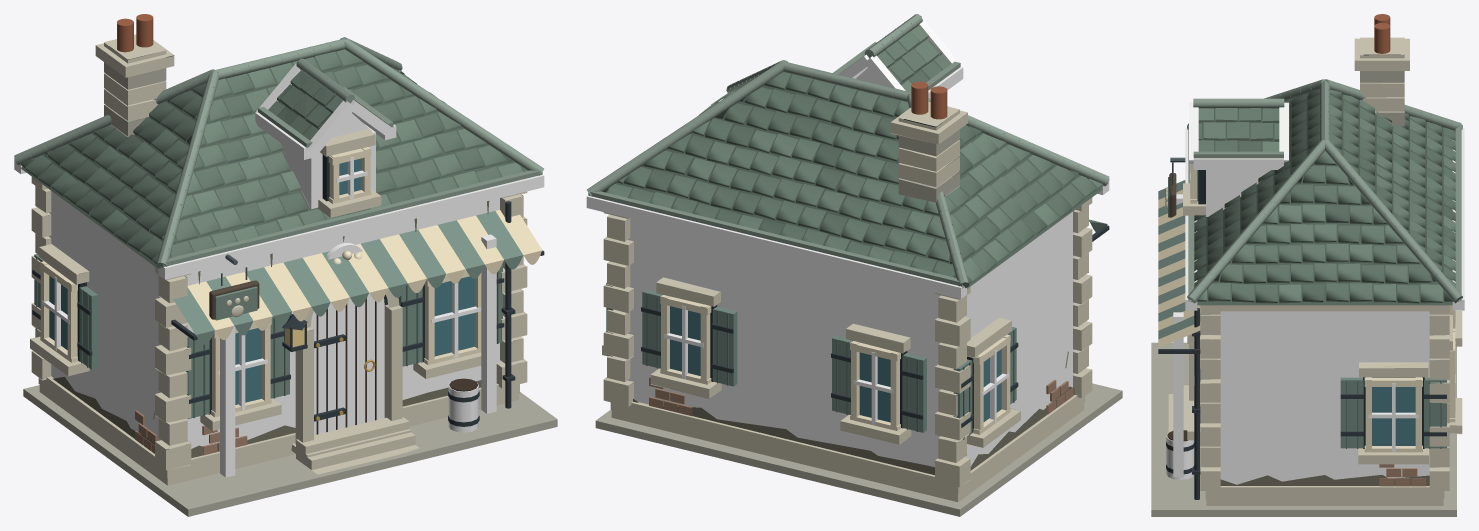
Rendered from pet_lodge.glb.
3 views of the same model, side by side, from view 1: azimuth 30°, elevation 25°; view 2: azimuth 150°, elevation 25°; view 3: azimuth 270°, elevation 25° (orthographic). The views are drawn at different scales.
Visible parts, largest first — view 1: SourceMesh_00052, SourceMesh_00005, SourceMesh_00000, SourceMesh_00142, SourceMesh_00048, SourceMesh_00047, SourceMesh_00006, SourceMesh_00049, SourceMesh_00050, SourceMesh_00135, SourceMesh_00001, SourceMesh_00310 (+62 smaller); view 2: SourceMesh_00005, SourceMesh_00052, SourceMesh_00000, SourceMesh_00044, SourceMesh_00006, SourceMesh_00045, SourceMesh_00001, SourceMesh_00046, SourceMesh_00050, SourceMesh_00135, SourceMesh_00360, SourceMesh_00288 (+36 smaller); view 3: SourceMesh_00052, SourceMesh_00005, SourceMesh_00000, SourceMesh_00051, SourceMesh_00135, SourceMesh_00006, SourceMesh_00044, SourceMesh_00214, SourceMesh_00001, SourceMesh_00122, SourceMesh_00310, SourceMesh_00007 (+46 smaller).
Boxes of the visible parts, x1=… form: SourceMesh_00052: x1=21, y1=49, x2=527, y2=263; SourceMesh_00005: x1=48, y1=191, x2=512, y2=449; SourceMesh_00000: x1=23, y1=385, x2=557, y2=516; SourceMesh_00142: x1=310, y1=293, x2=384, y2=435; SourceMesh_00048: x1=158, y1=174, x2=544, y2=279; SourceMesh_00047: x1=170, y1=51, x2=524, y2=257; SourceMesh_00006: x1=38, y1=376, x2=519, y2=477; SourceMesh_00049: x1=161, y1=170, x2=542, y2=267; SourceMesh_00050: x1=21, y1=90, x2=202, y2=268; SourceMesh_00135: x1=268, y1=71, x2=342, y2=140; SourceMesh_00001: x1=39, y1=385, x2=518, y2=485; SourceMesh_00310: x1=481, y1=234, x2=496, y2=413; SourceMesh_00005: x1=618, y1=212, x2=1077, y2=467; SourceMesh_00052: x1=603, y1=72, x2=1103, y2=283; SourceMesh_00000: x1=595, y1=383, x2=1122, y2=516; SourceMesh_00044: x1=606, y1=74, x2=955, y2=277; SourceMesh_00006: x1=610, y1=395, x2=1085, y2=494; SourceMesh_00045: x1=586, y1=195, x2=966, y2=299; SourceMesh_00001: x1=611, y1=403, x2=1084, y2=501; SourceMesh_00046: x1=588, y1=191, x2=963, y2=288; SourceMesh_00050: x1=946, y1=128, x2=1102, y2=288; SourceMesh_00135: x1=877, y1=25, x2=951, y2=92; SourceMesh_00360: x1=633, y1=399, x2=934, y2=475; SourceMesh_00288: x1=712, y1=306, x2=737, y2=386; SourceMesh_00052: x1=1191, y1=89, x2=1458, y2=303; SourceMesh_00005: x1=1210, y1=311, x2=1439, y2=484; SourceMesh_00000: x1=1151, y1=342, x2=1456, y2=516; SourceMesh_00051: x1=1197, y1=163, x2=1452, y2=305; SourceMesh_00135: x1=1198, y1=108, x2=1279, y2=151; SourceMesh_00006: x1=1205, y1=486, x2=1444, y2=499; SourceMesh_00044: x1=1330, y1=93, x2=1452, y2=280; SourceMesh_00214: x1=1372, y1=387, x2=1415, y2=445; SourceMesh_00001: x1=1206, y1=498, x2=1443, y2=505; SourceMesh_00122: x1=1206, y1=170, x2=1270, y2=216; SourceMesh_00310: x1=1173, y1=312, x2=1183, y2=477; SourceMesh_00007: x1=1220, y1=305, x2=1429, y2=311.
Bounding box in the file's own units: 5.97 × 5.72 × 4.51.
